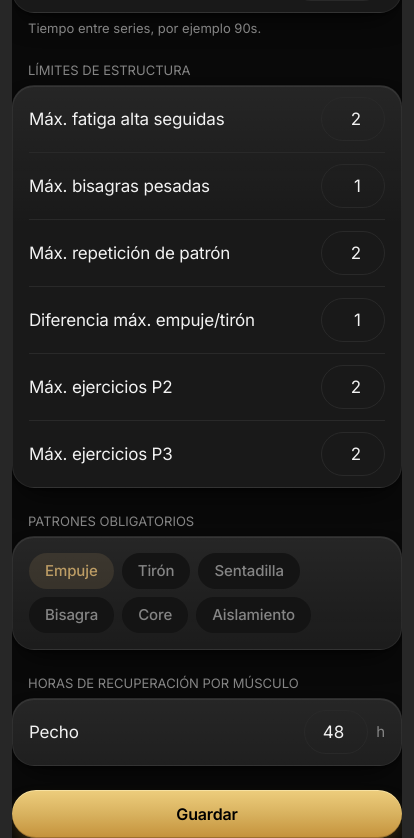
it: TrainingRulesEditor › toggles the required patterns
The image size is (414, 838).
(page scrolled)
Click the button "Aislamiento": (254, 615) [196, 597, 311, 633]
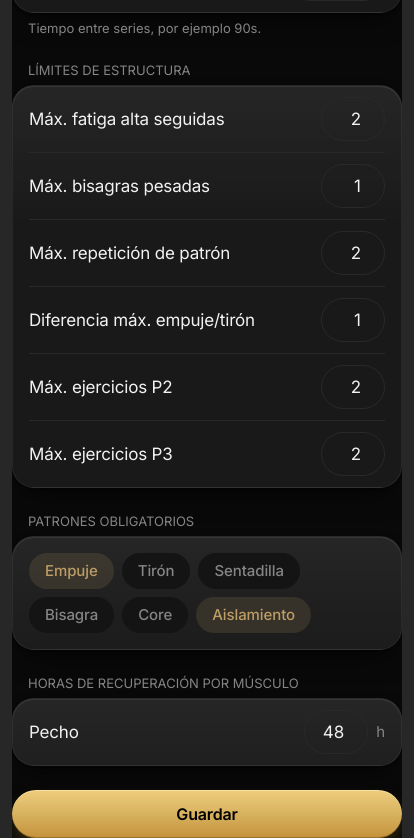
Result: the button "Aislamiento" is pressed at [196, 597, 311, 633]
